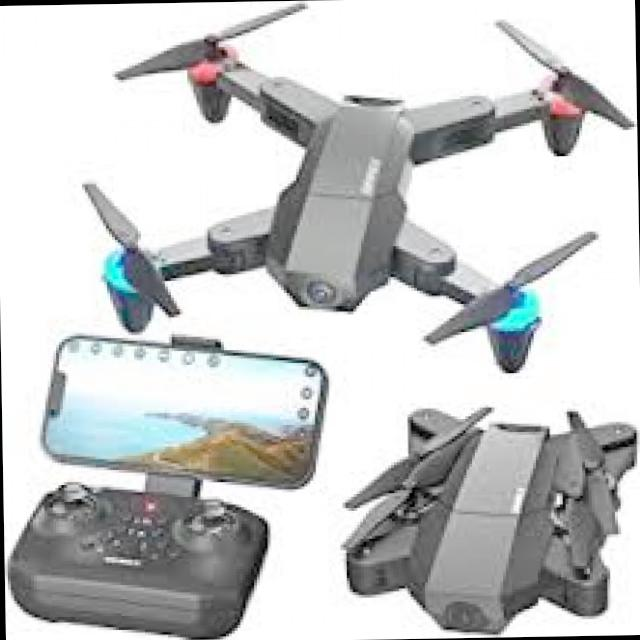drone: (67, 0, 640, 384)
